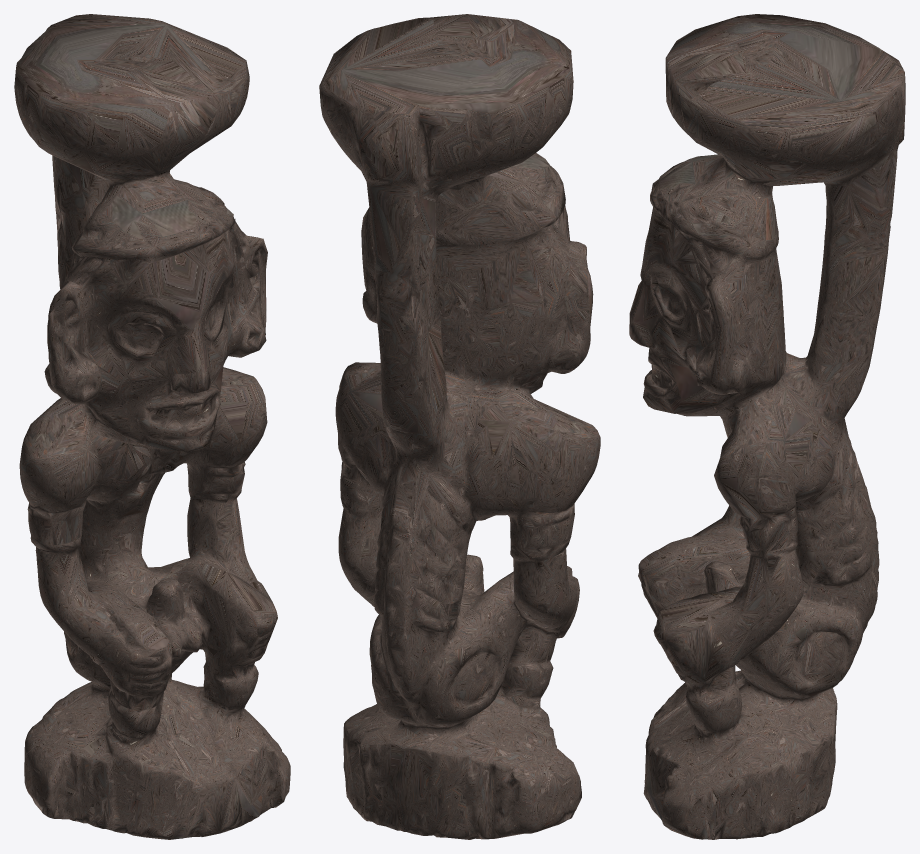
Rendered from preview.glb.
The picture shows the model from 3 angles, left to right: view 1: azimuth 30°, elevation 25°; view 2: azimuth 150°, elevation 25°; view 3: azimuth 270°, elevation 25°; orthographic projection. The views are drawn at different scales.
Size of the model in its own units: 0.2249 by 0.667 by 0.2278.
1 material, 1 textured.
